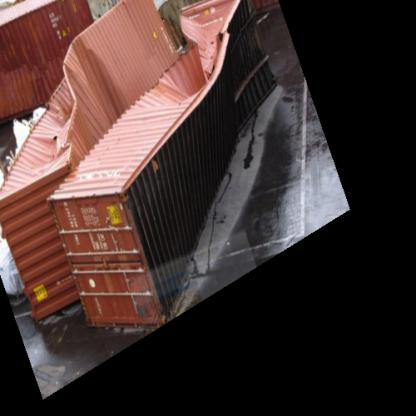Damage: (15, 24, 96, 168), (158, 5, 252, 127)
